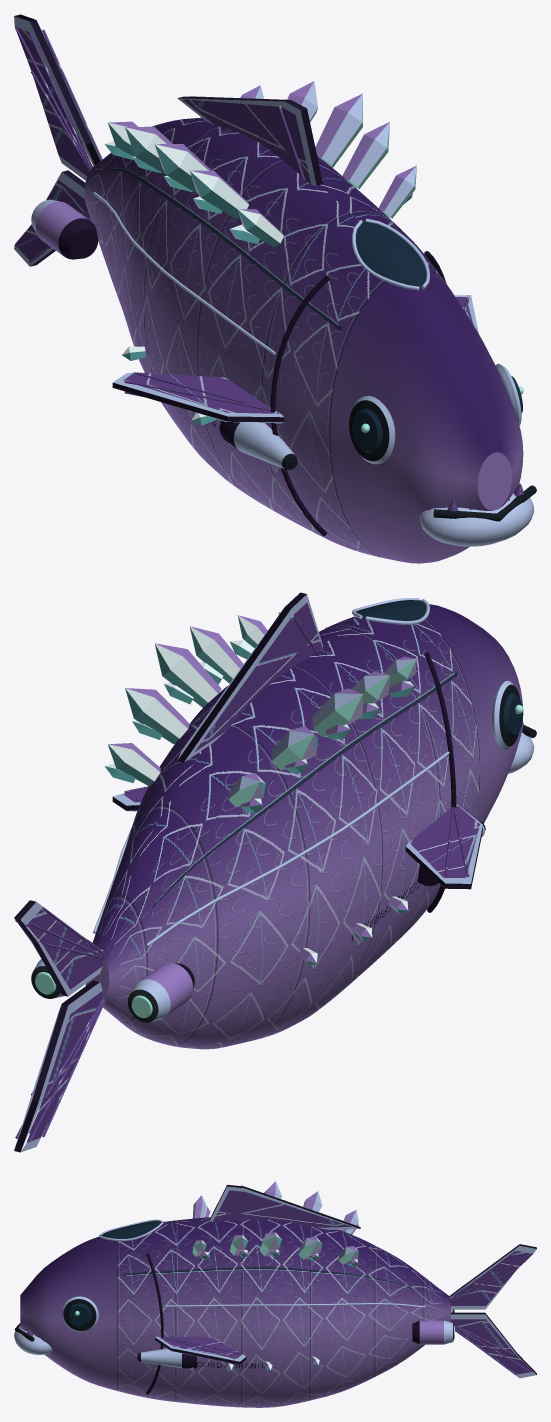
3 views of the same model, one above another, from view 1: azimuth 30°, elevation 25°; view 2: azimuth 150°, elevation 25°; view 3: azimuth 270°, elevation 25° (orthographic). The views are drawn at different scales.
Parts seen in each view (by area): view 1: piranha_hull; view 2: piranha_hull; view 3: piranha_hull.
Part boxes in pixels (x1,y1,x2,y2): piranha_hull: [14, 14, 536, 563]; piranha_hull: [14, 592, 536, 1152]; piranha_hull: [14, 1181, 536, 1407].
Bounding box in the file's own units: 6.42 × 6.94 × 15.
1 material, 1 textured.
